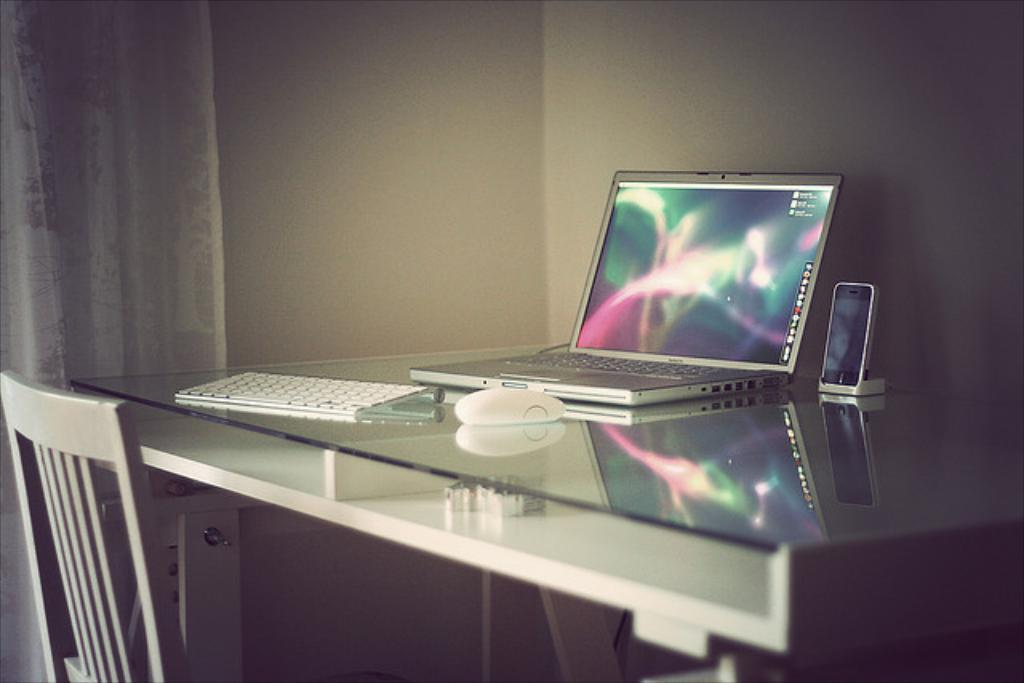Computer-keyboard: (174, 371, 446, 414), (494, 349, 744, 379)
Laptop: (394, 171, 886, 478)
